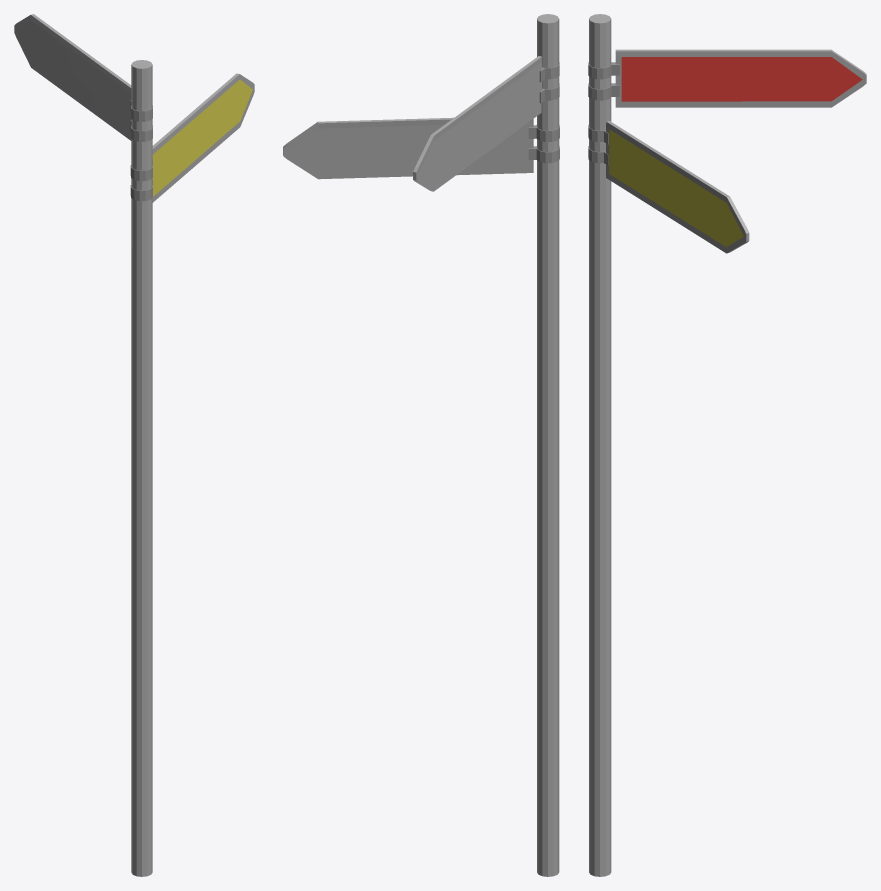
The model's file is direction sign 2.fbx.
3 views of the same model, side by side, from view 1: azimuth 30°, elevation 25°; view 2: azimuth 150°, elevation 25°; view 3: azimuth 270°, elevation 25° (orthographic). The views are drawn at different scales.
Visible parts, largest first — view 1: Cylinder; view 2: Cylinder; view 3: Cylinder.
Part boxes in pixels (x1,y1,x2,y2): Cylinder: (14,14,254,876); Cylinder: (283,14,559,876); Cylinder: (588,14,866,876).
Size of the model in its own units: 755 by 3044 by 900.
